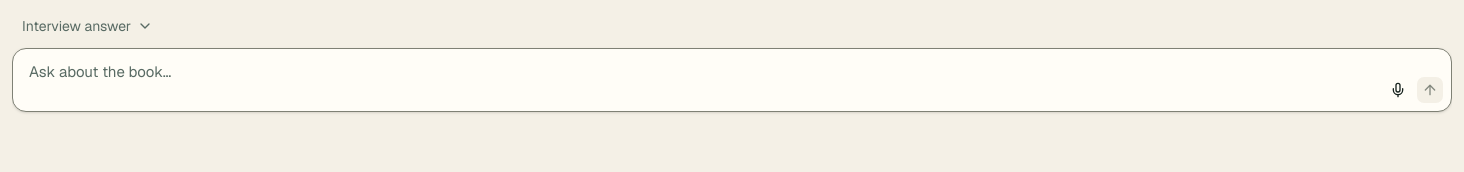
Test case: Composer › requires an @book tag when there is no default selection
The image size is (1464, 172).
Type "Explain drift" into the dropdown labelled "Ask about the book" at (732, 80), box x1=12 y1=48 x2=1452 y2=112
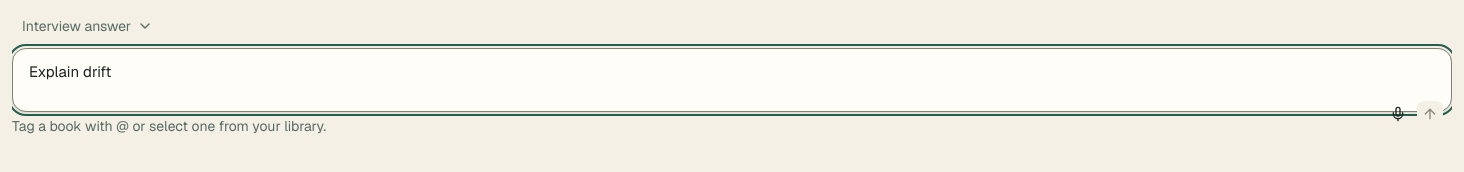
Check: the button named "Send question" is disabled, box x1=1416 y1=100 x2=1444 y2=128
Check: the text "Tag a book with @ or select one from your library." is shown, box x1=12 y1=117 x2=326 y2=135
